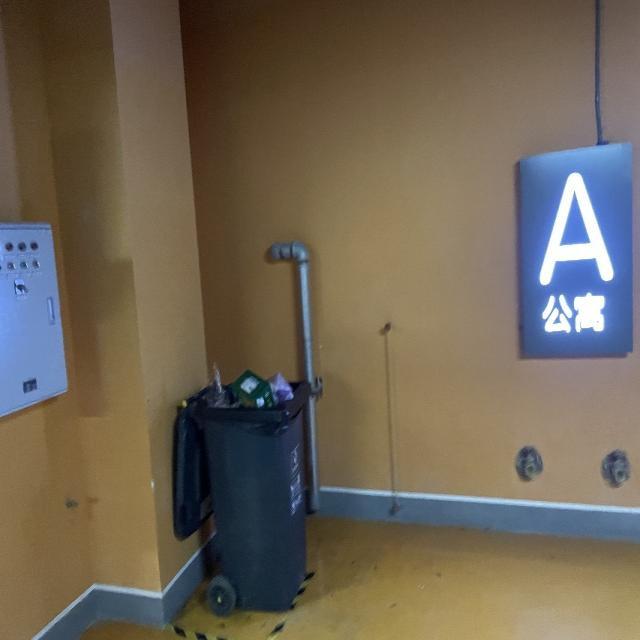overflow: (171, 360, 308, 612)
